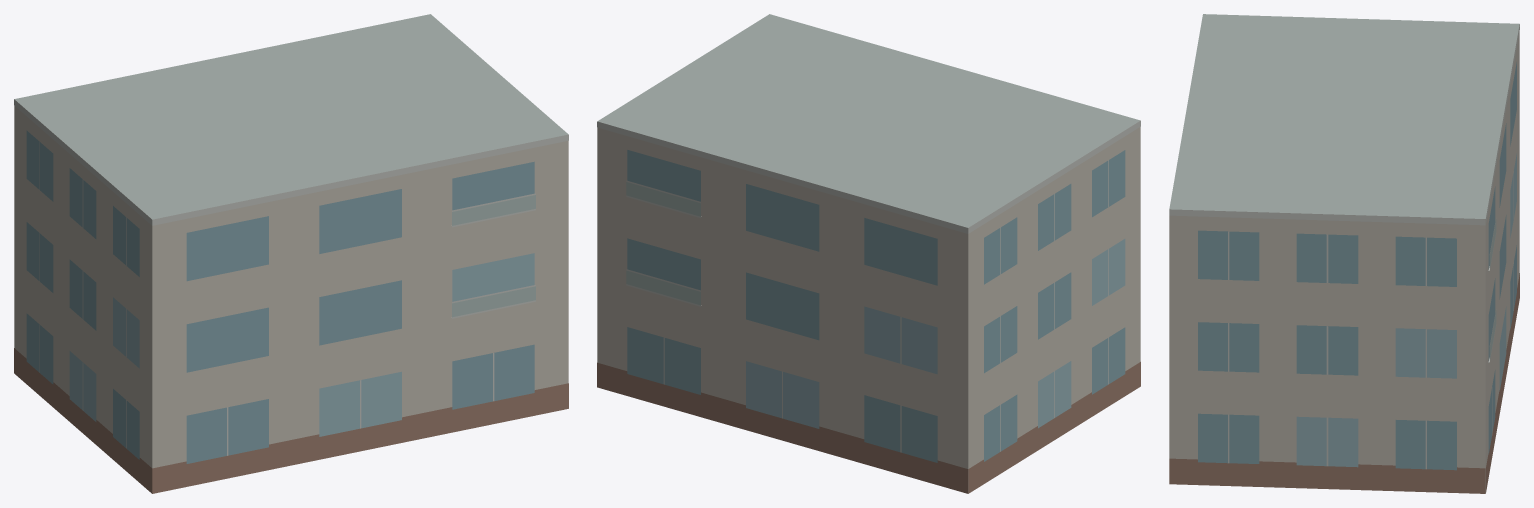
File: survey-upis-33006811.glb
3 renders of one model, left to right at view 1: azimuth 30°, elevation 25°; view 2: azimuth 150°, elevation 25°; view 3: azimuth 270°, elevation 25°, orthographic. The views are drawn at different scales.
Parts seen in each view (by area): view 1: survey-upis-33006811.tmp; view 2: survey-upis-33006811.tmp; view 3: survey-upis-33006811.tmp.
Part boxes in pixels (x1=…): survey-upis-33006811.tmp: x1=14, y1=14, x2=568, y2=493; survey-upis-33006811.tmp: x1=597, y1=14, x2=1140, y2=493; survey-upis-33006811.tmp: x1=1169, y1=14, x2=1519, y2=493.
Bounding box in the file's own units: 17.3 × 10.8 × 12.49.
